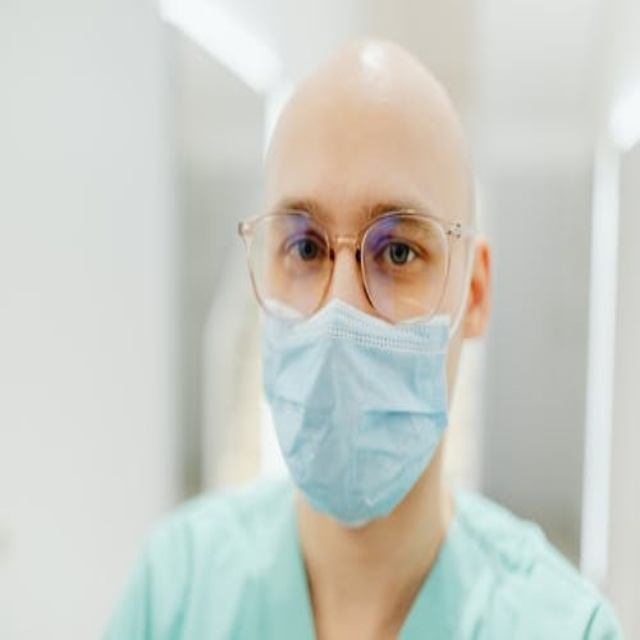Gafas: (237, 208, 472, 326)
Mascara: (258, 283, 455, 527)
